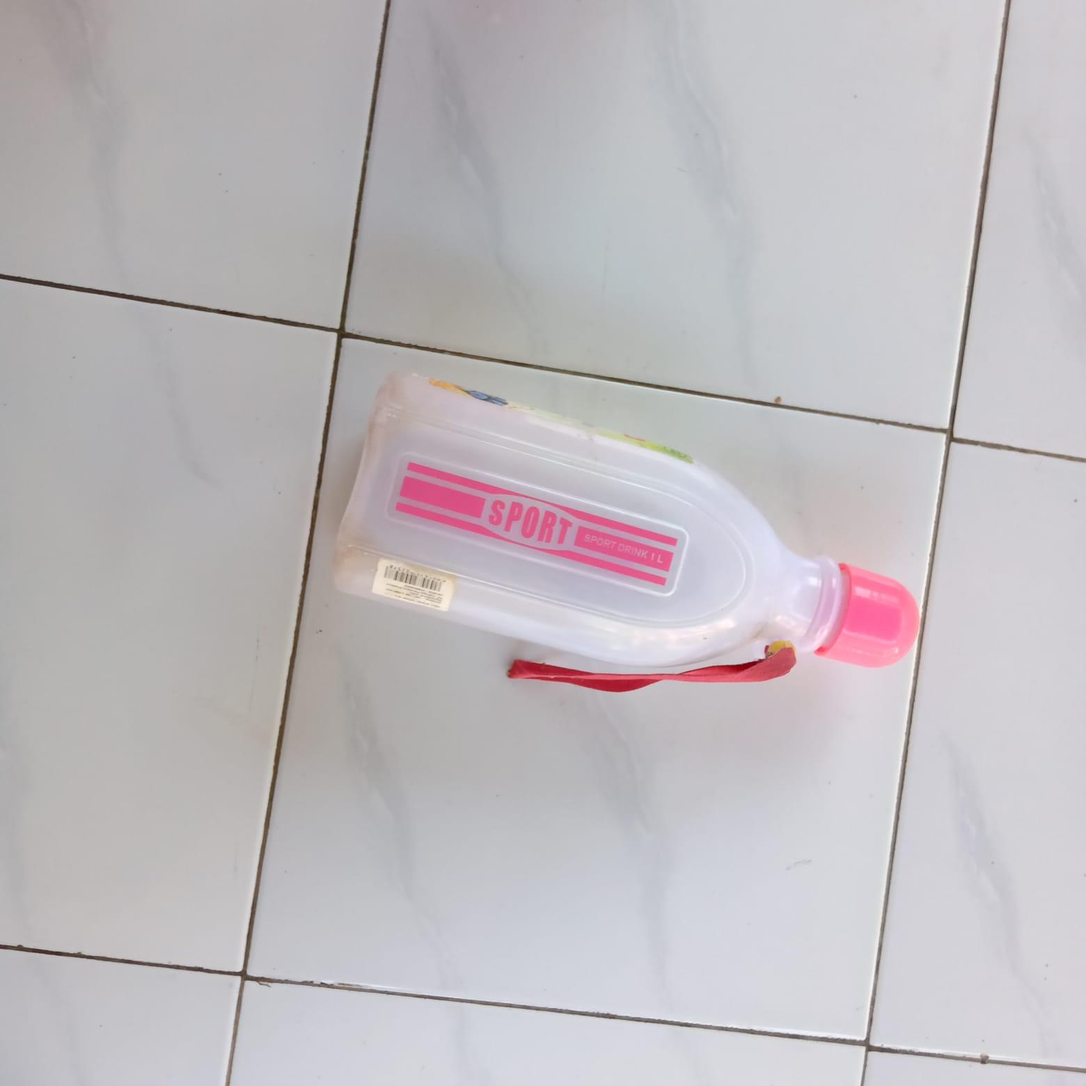Plastik: (330, 369, 923, 729)
